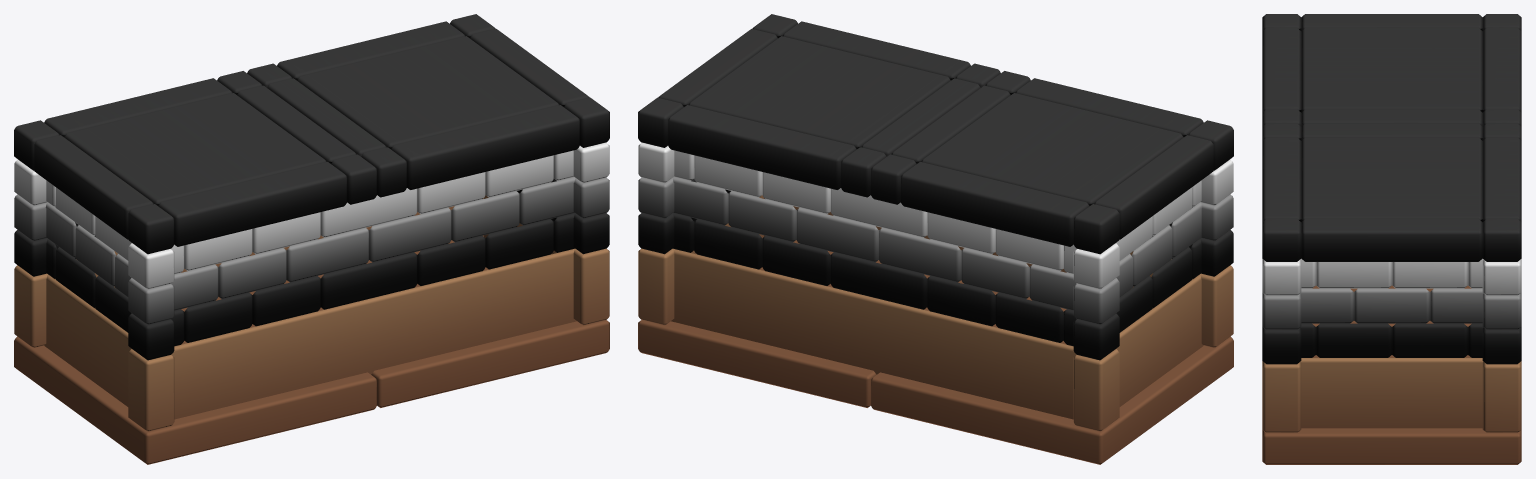
File: SM_Brick_Body_06.fbx
The picture shows the model from 3 angles, left to right: view 1: azimuth 30°, elevation 25°; view 2: azimuth 150°, elevation 25°; view 3: azimuth 270°, elevation 25°; orthographic projection. The views are drawn at different scales.
Parts seen in each view (by area): view 1: SM_Brick_Body_06; view 2: SM_Brick_Body_06; view 3: SM_Brick_Body_06.
Part boxes in pixels (x1=…): SM_Brick_Body_06: x1=14, y1=14, x2=609, y2=464; SM_Brick_Body_06: x1=638, y1=14, x2=1233, y2=464; SM_Brick_Body_06: x1=1262, y1=14, x2=1521, y2=464.
Bounding box in the file's own units: 2 × 1 × 1.
